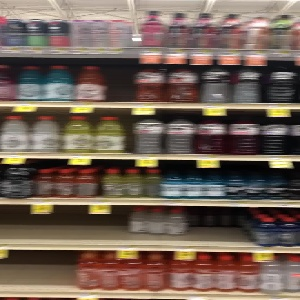void: (1, 201, 255, 242), (1, 249, 77, 294), (103, 57, 138, 104)
